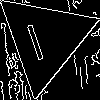I: (20, 14, 48, 62)
